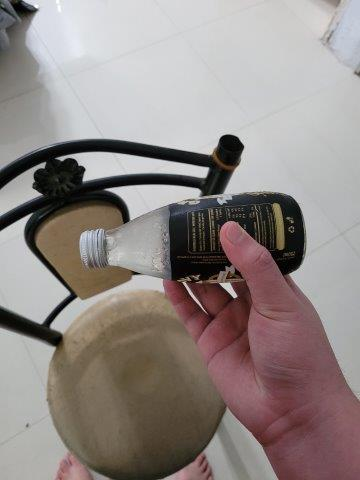botolkaca: (77, 191, 307, 280)
